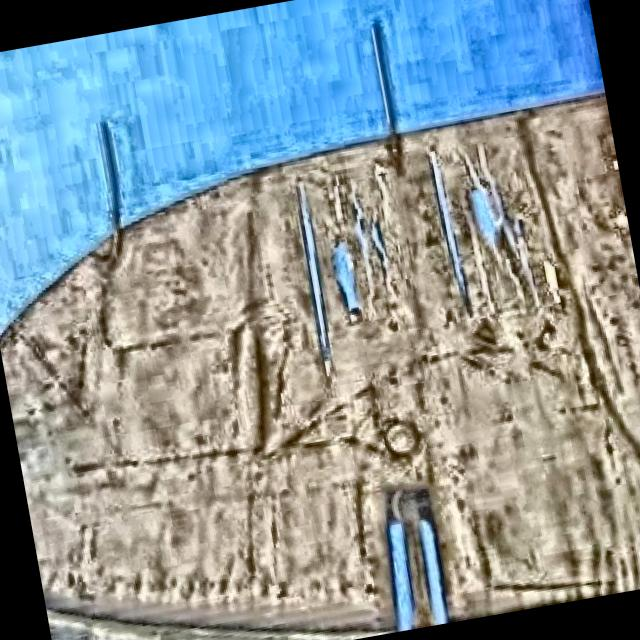crack: (271, 126, 574, 394)
